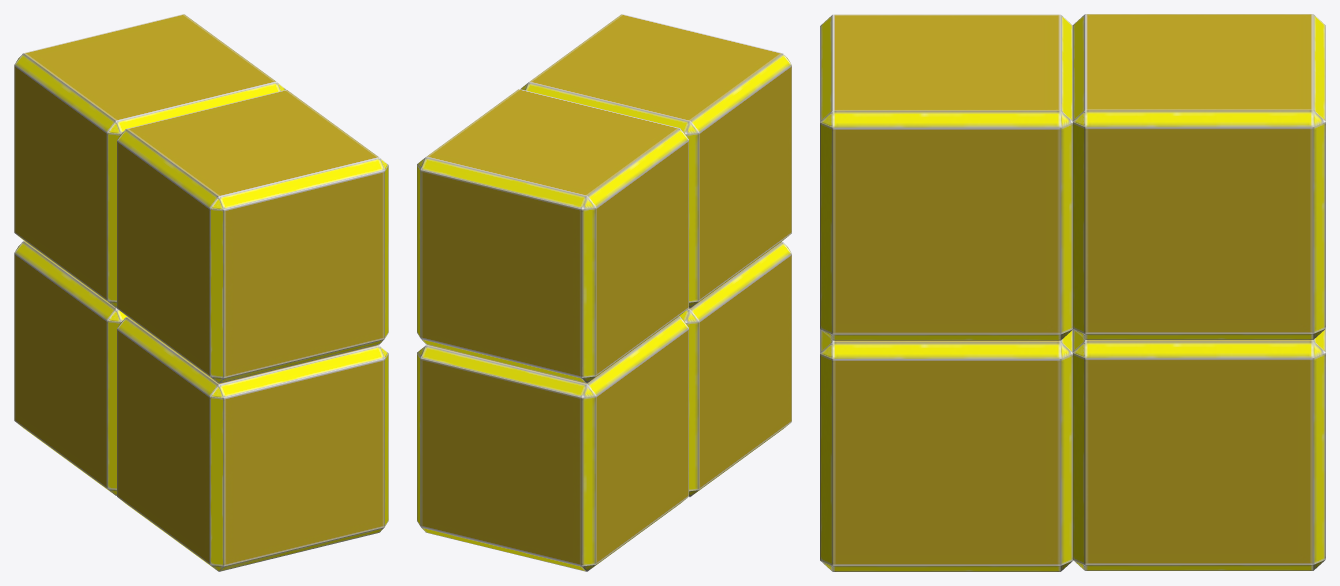
The model's file is Yellow Block.fbx.
3 renders of one model, left to right at view 1: azimuth 30°, elevation 25°; view 2: azimuth 150°, elevation 25°; view 3: azimuth 270°, elevation 25°, orthographic. The views are drawn at different scales.
Visible parts, largest first — view 1: pCube43; view 2: pCube43; view 3: pCube43.
Part boxes in pixels (x1,y1,x2,y2): pCube43: (14, 14, 388, 571); pCube43: (417, 14, 791, 571); pCube43: (820, 14, 1325, 571).
Bounding box in the file's own units: 1 × 2.01 × 2.
